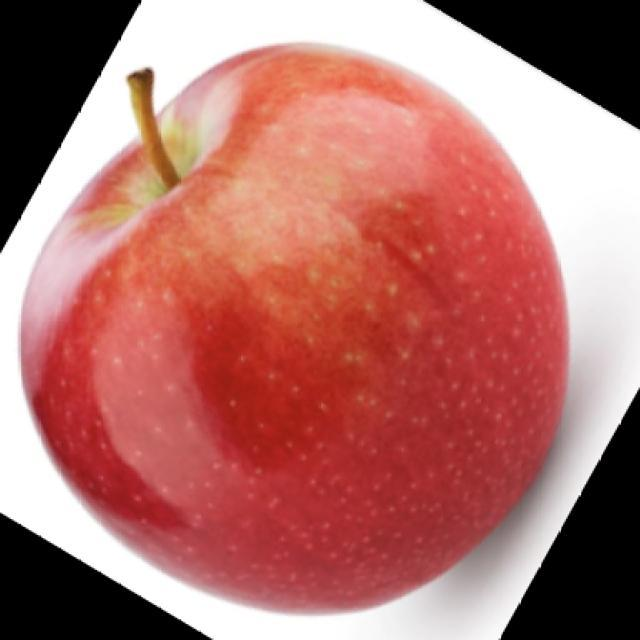Apple: (18, 40, 571, 616)
